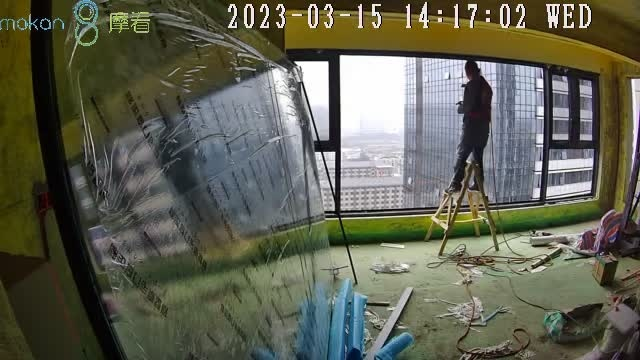people: (445, 61, 494, 192)
window: (286, 48, 602, 205)
